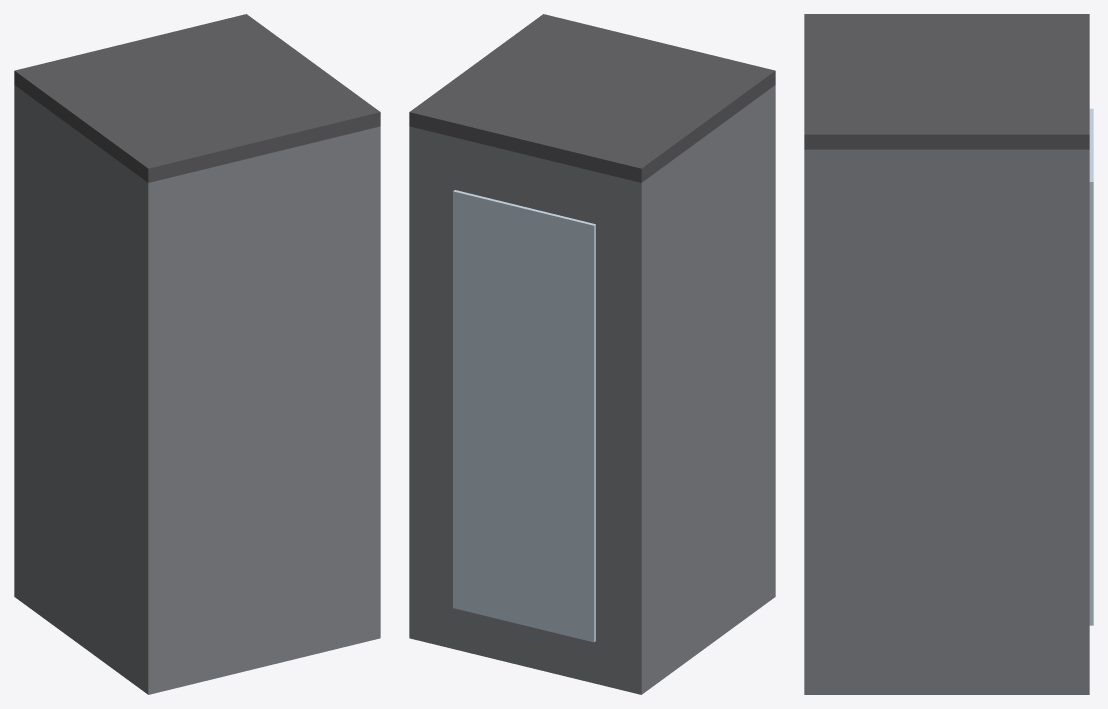
The model's file is phone_booth-PRIM-001.glb.
The picture shows the model from 3 angles, left to right: view 1: azimuth 30°, elevation 25°; view 2: azimuth 150°, elevation 25°; view 3: azimuth 270°, elevation 25°; orthographic projection. The views are drawn at different scales.
Parts seen in each view (by area): view 1: p0, p2; view 2: p0, p1, p2; view 3: p0, p2, p1.
Part boxes in pixels (<box>): p0: <box>14,85,380,694</box>; p2: <box>14,14,380,182</box>; p0: <box>409,85,775,694</box>; p1: <box>453,190,595,642</box>; p2: <box>409,14,775,182</box>; p0: <box>804,149,1089,694</box>; p2: <box>804,14,1089,149</box>; p1: <box>1089,108,1093,625</box>.
Bounding box in the file's own units: 1.02 × 2.21 × 1.03.
